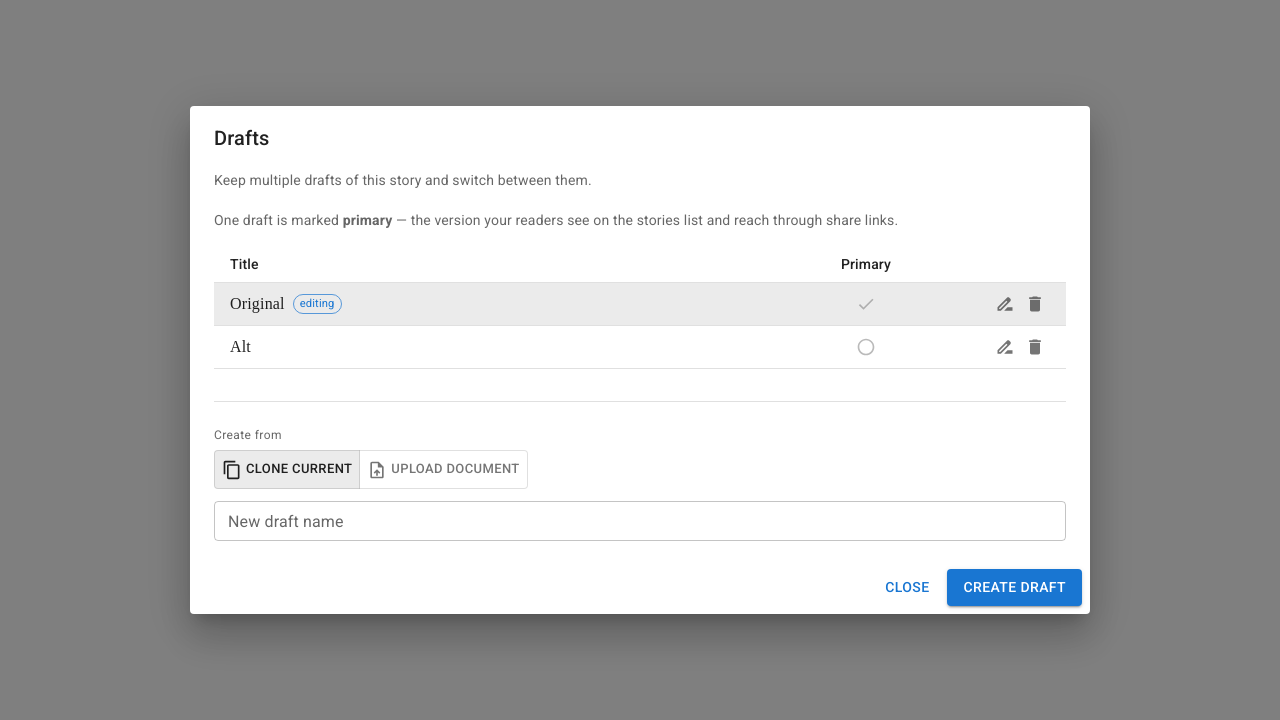
it: DraftsDialog › shows the re-root warning when deleting the original with drafts present
This screenshot has width=1280, height=720.
Expected: the text "Alt" is shown, [230,336,251,359]
Click the button named "delete" in the row of "Original" at (1035, 304), box [1020,289,1050,319]
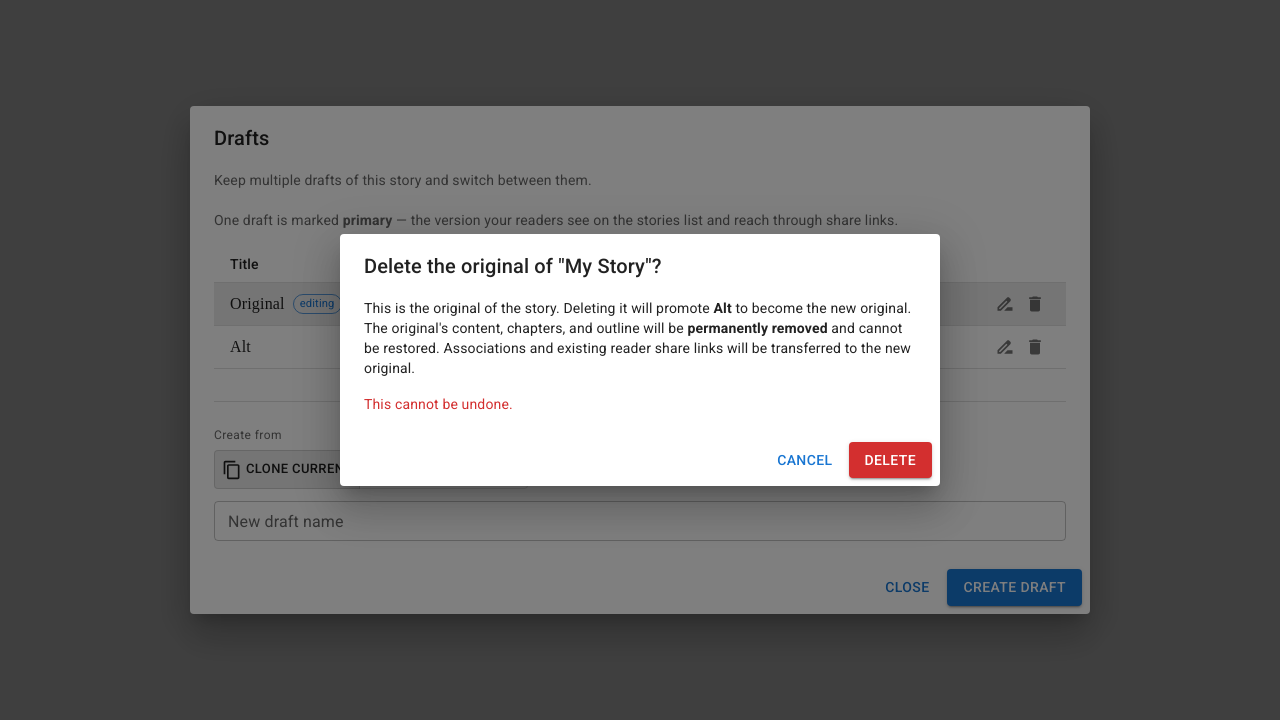
Expected: the heading "Delete the original of \"My Story\"?" is shown, [364,254,662,278]
Expected: the text "promote" is shown, [364,300,710,316]
Expected: the text "permanently removed" is shown, [688,320,828,336]
